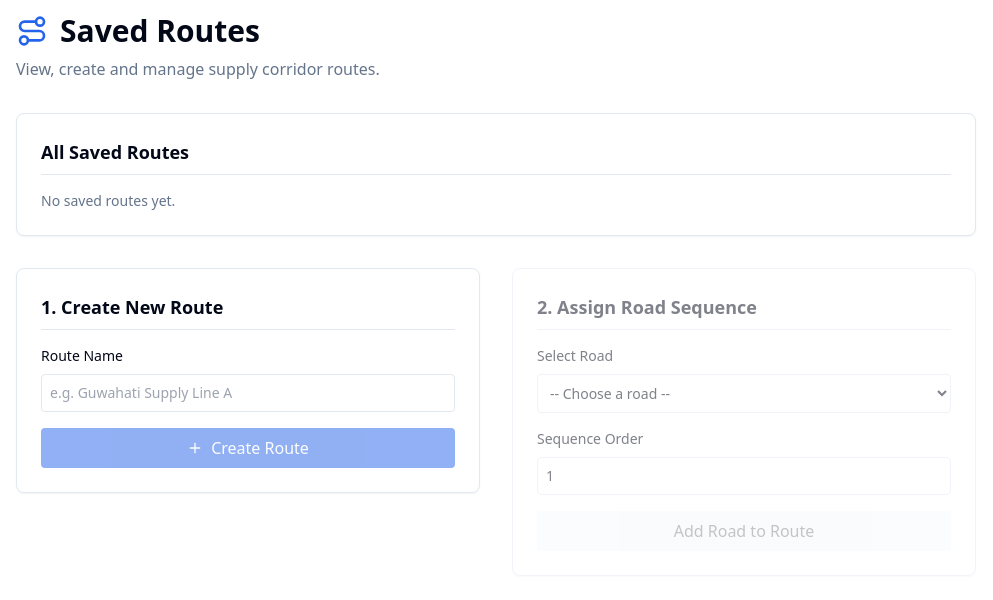
Scenario: Phase 5: Saved Routes › 3-4. POST /routes/ creates route
In the field with placeholder "e.g. Guwahati Supply Line A": (248, 393) top-left (41, 374), bottom-right (455, 412), type "Test Route"
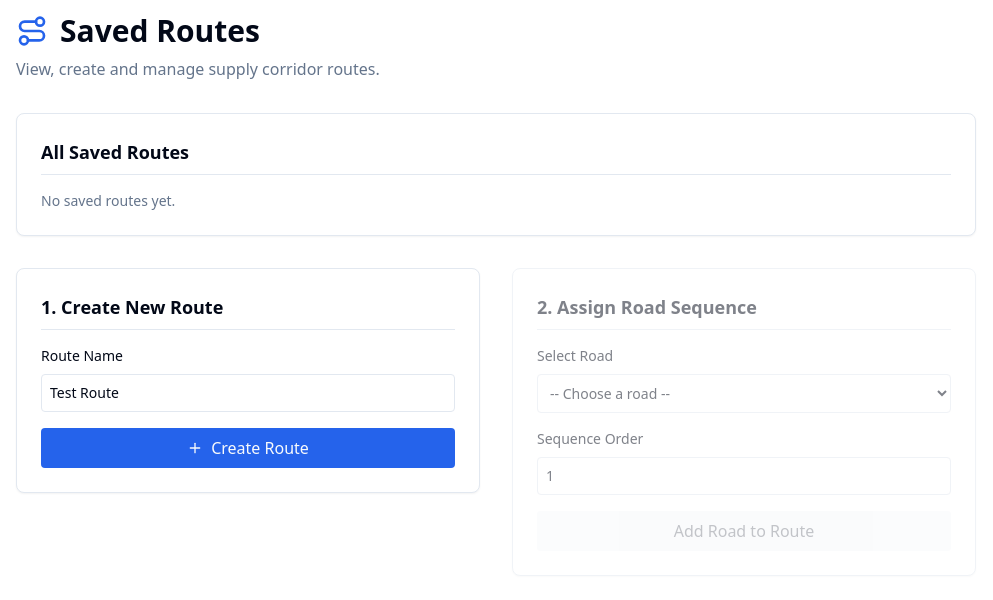
Click the button "Create Route": (248, 448) top-left (41, 428), bottom-right (455, 468)
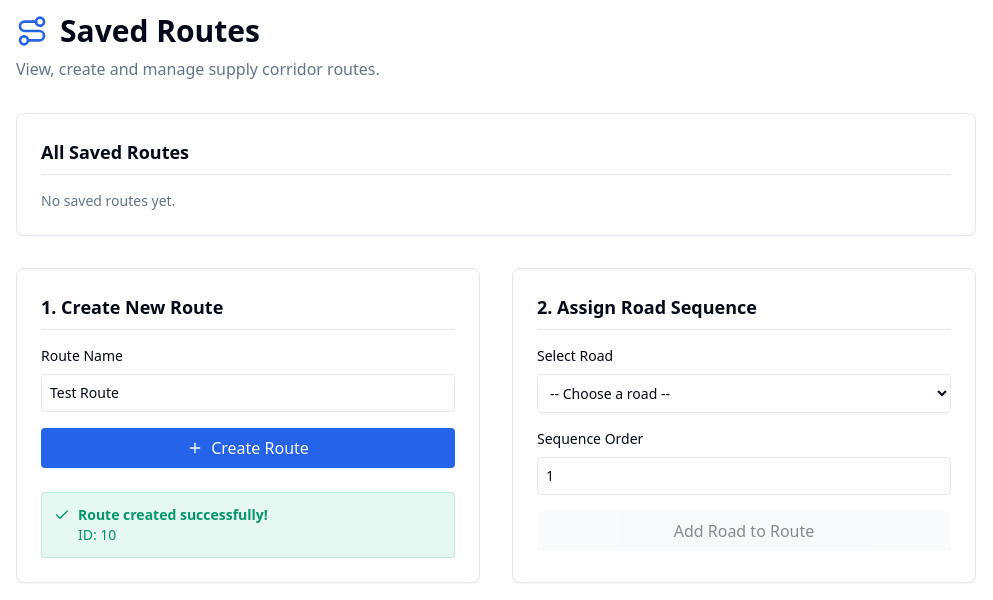
Check: the text "Route created successfully!" is shown, box top-left (78, 505), bottom-right (268, 525)
